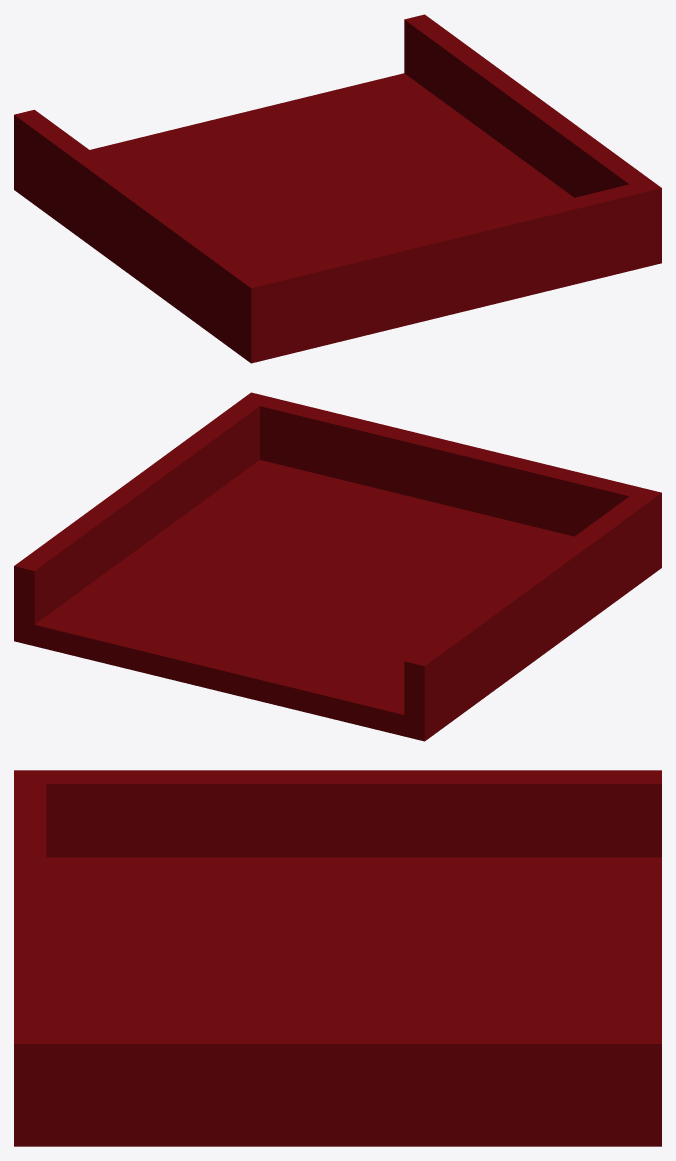
File: RedRoof_3Edges.glb
3 views of the same model, one above another, from view 1: azimuth 30°, elevation 25°; view 2: azimuth 150°, elevation 25°; view 3: azimuth 270°, elevation 25° (orthographic). The views are drawn at different scales.
Parts seen in each view (by area): view 1: roof_flat_3Edges_red; view 2: roof_flat_3Edges_red; view 3: roof_flat_3Edges_red.
Part boxes in pixels (x1=…): roof_flat_3Edges_red: x1=14, y1=14, x2=661, y2=363; roof_flat_3Edges_red: x1=14, y1=392, x2=661, y2=741; roof_flat_3Edges_red: x1=14, y1=770, x2=661, y2=1146.
Size of what is drawn, in the model's own units: 4 by 0.7 by 4.
Materials: 1 (1 with a texture image).
